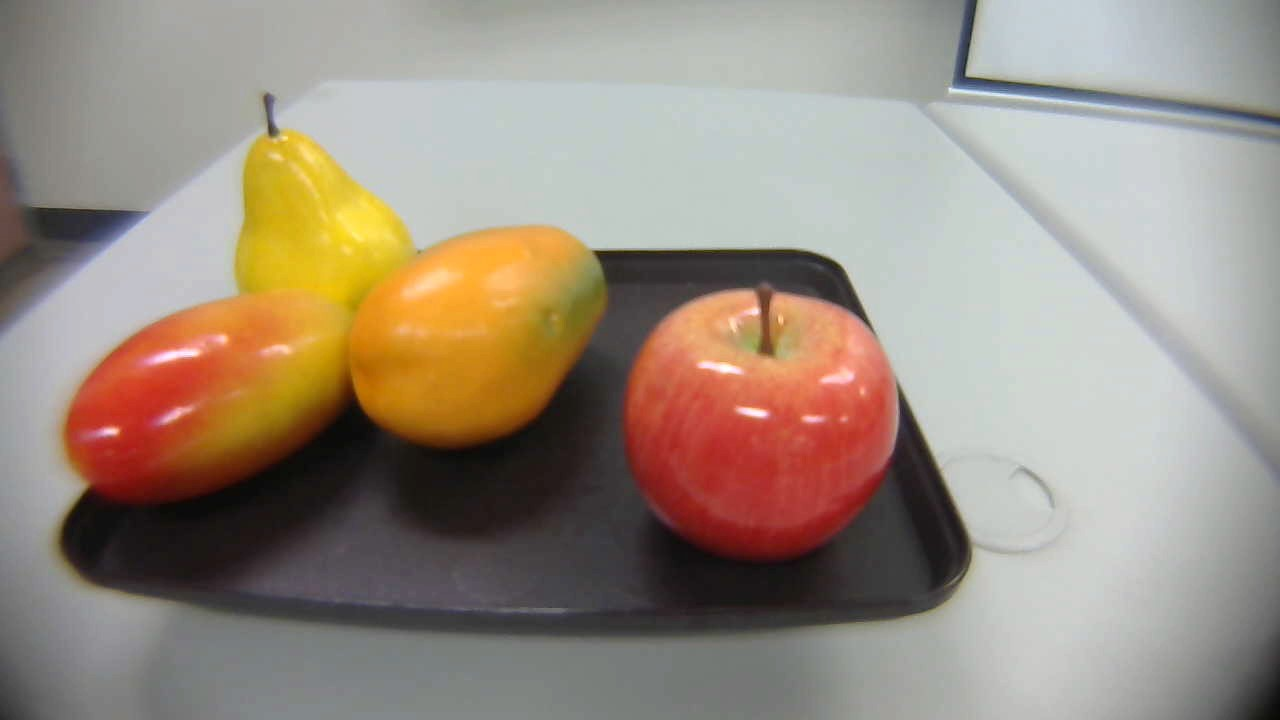papya: (343, 229, 612, 458)
red apple: (615, 279, 900, 559)
red mango: (58, 279, 378, 506)
yellow pear: (220, 84, 425, 323)
